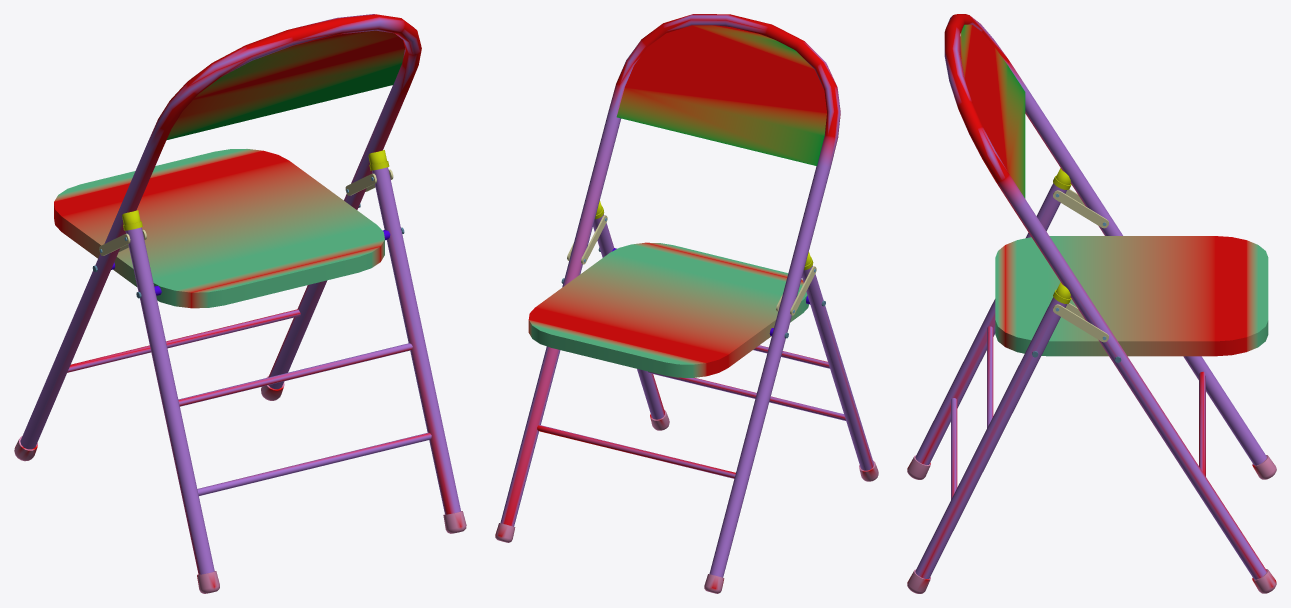
File: Attic_FoldingChair_02_LP.glb
3 renders of one model, left to right at view 1: azimuth 30°, elevation 25°; view 2: azimuth 150°, elevation 25°; view 3: azimuth 270°, elevation 25°, orthographic. The views are drawn at different scales.
Parts seen in each view (by area): view 1: Attic_FoldingChair_02_LP; view 2: Attic_FoldingChair_02_LP; view 3: Attic_FoldingChair_02_LP.
Part boxes in pixels (x1,y1,x2,y2): Attic_FoldingChair_02_LP: (14,14,466,593); Attic_FoldingChair_02_LP: (495,14,878,593); Attic_FoldingChair_02_LP: (907,14,1276,593).
Bounding box in the file's own units: 0.6007 × 1.13 × 0.762.
